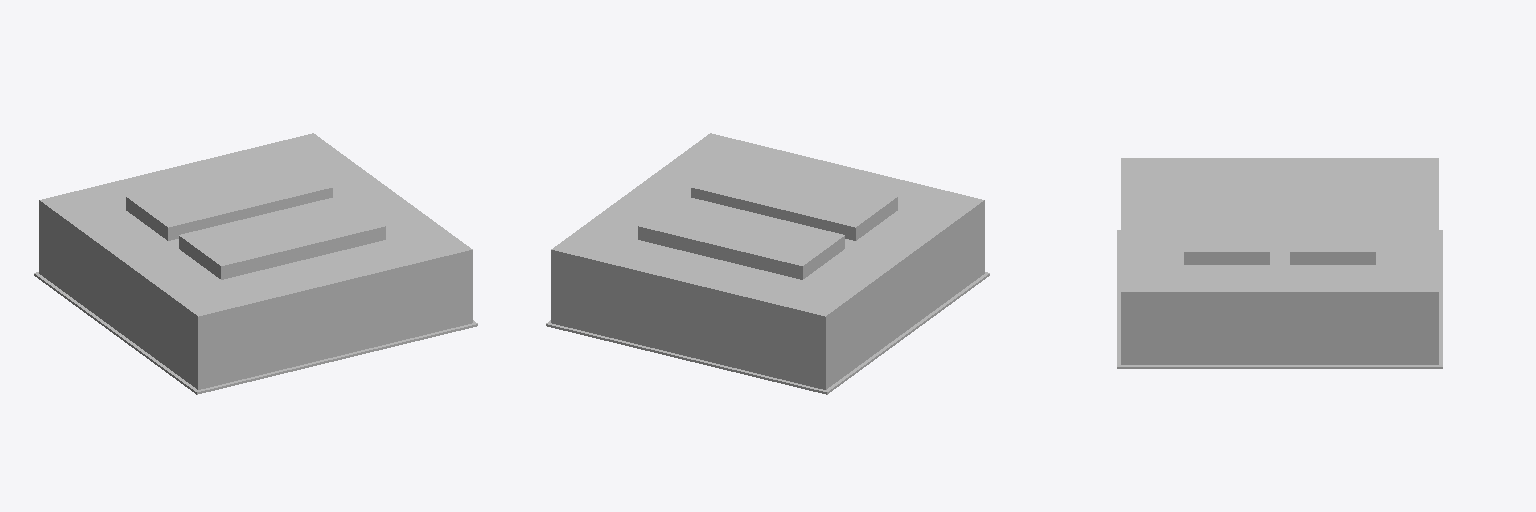
File: basewalls.obj
3 renders of one model, left to right at view 1: azimuth 30°, elevation 25°; view 2: azimuth 150°, elevation 25°; view 3: azimuth 270°, elevation 25°, orthographic.
Parts seen in each view (by area): view 1: polySurface3 polySurface1 pCube2; view 2: polySurface3 polySurface1 pCube2; view 3: polySurface3 polySurface1 pCube2.
Boxes of the visible parts, x1=… form: polySurface3 polySurface1 pCube2: x1=34, y1=133, x2=477, y2=394; polySurface3 polySurface1 pCube2: x1=546, y1=133, x2=989, y2=394; polySurface3 polySurface1 pCube2: x1=1117, y1=158, x2=1442, y2=368.
Bounding box in the file's own units: 2532 × 770 × 2543.